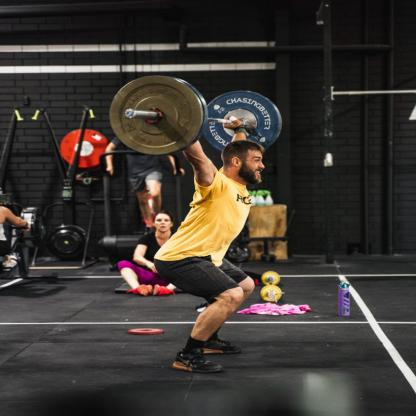Barbell: (101, 66, 215, 158)
